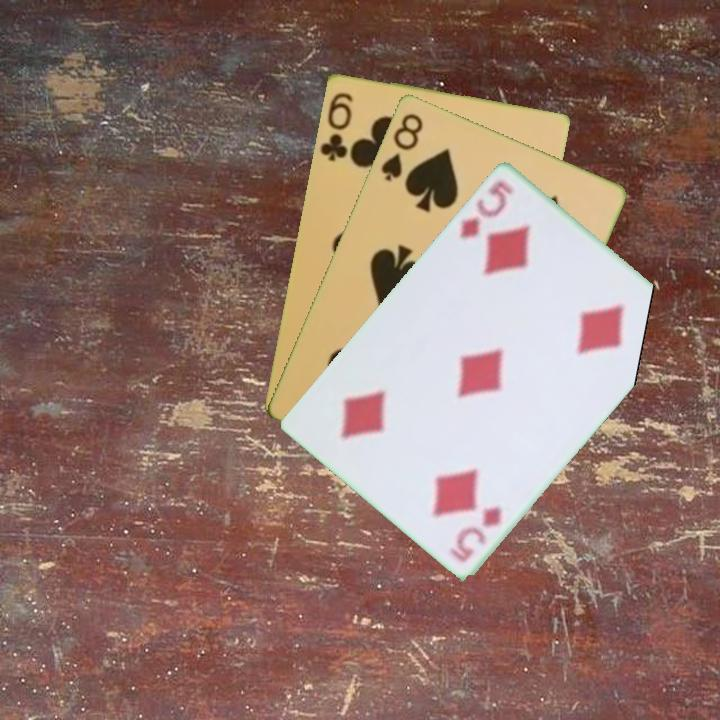5d: (456, 176, 516, 241), (445, 502, 505, 565)
6c: (316, 88, 355, 164)
8s: (377, 109, 426, 184)
